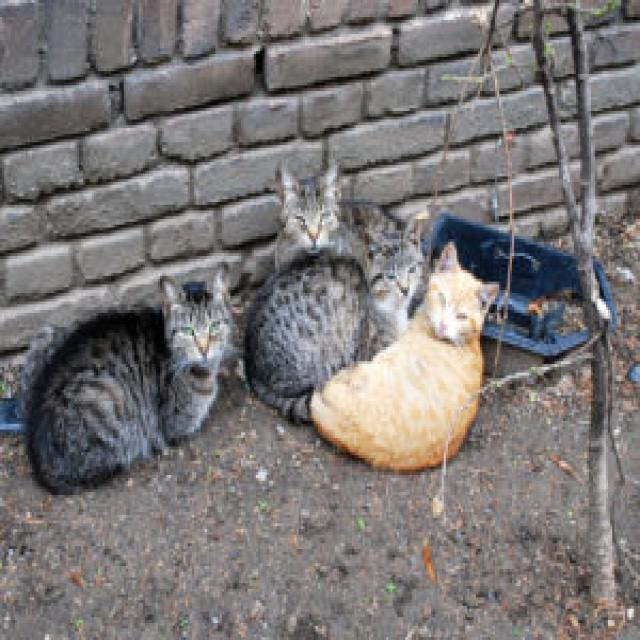cat: (21, 268, 230, 492), (310, 243, 499, 469), (246, 223, 424, 422), (277, 165, 389, 278)
